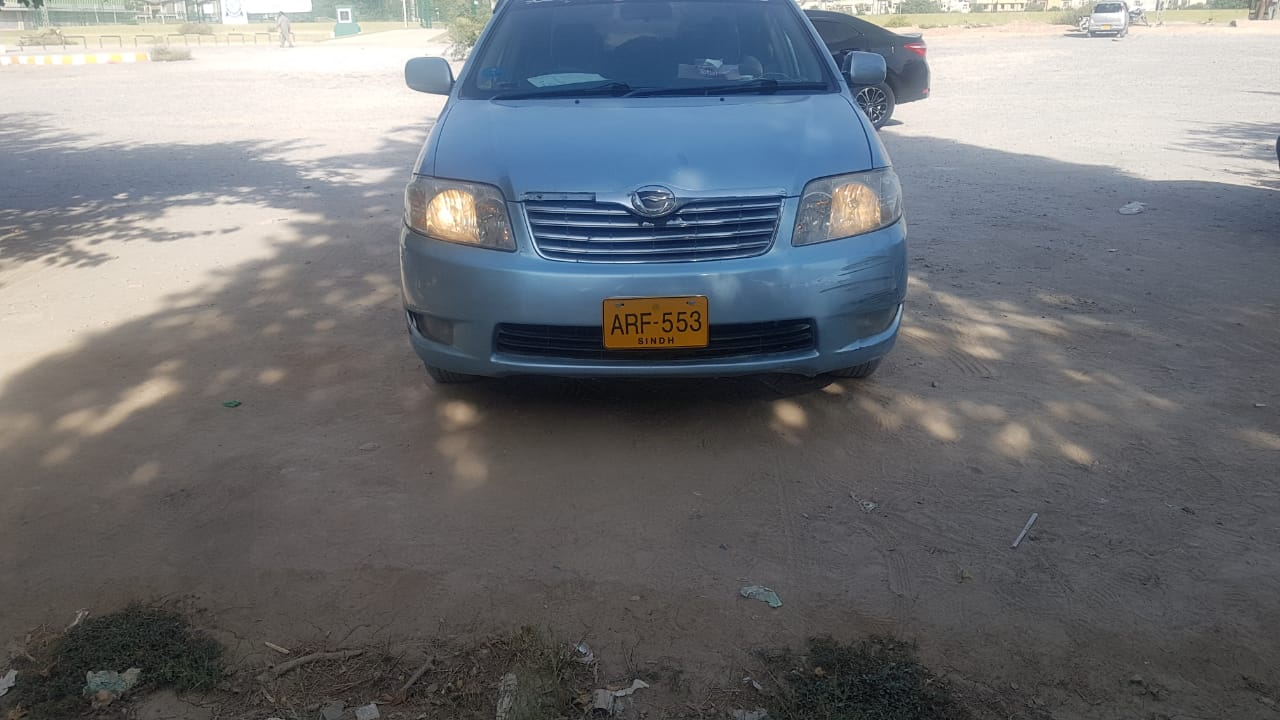license plate: (602, 298, 710, 349)
